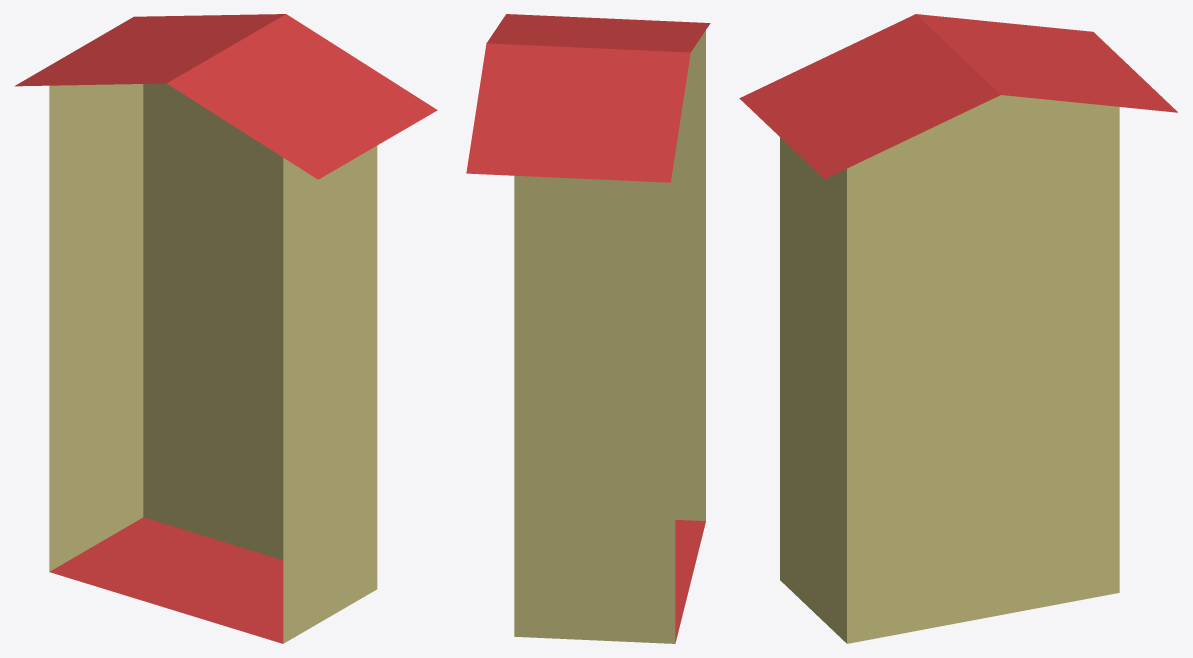
The picture shows the model from 3 angles, left to right: view 1: azimuth 30°, elevation 25°; view 2: azimuth 150°, elevation 25°; view 3: azimuth 270°, elevation 25°; orthographic projection. The views are drawn at different scales.
Bounding box in the file's own units: 3.91 × 4.92 × 6.68.
